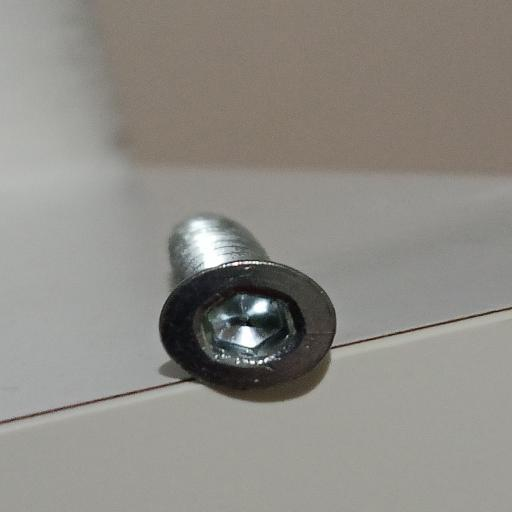Hex-Allen: (159, 214, 336, 389)
